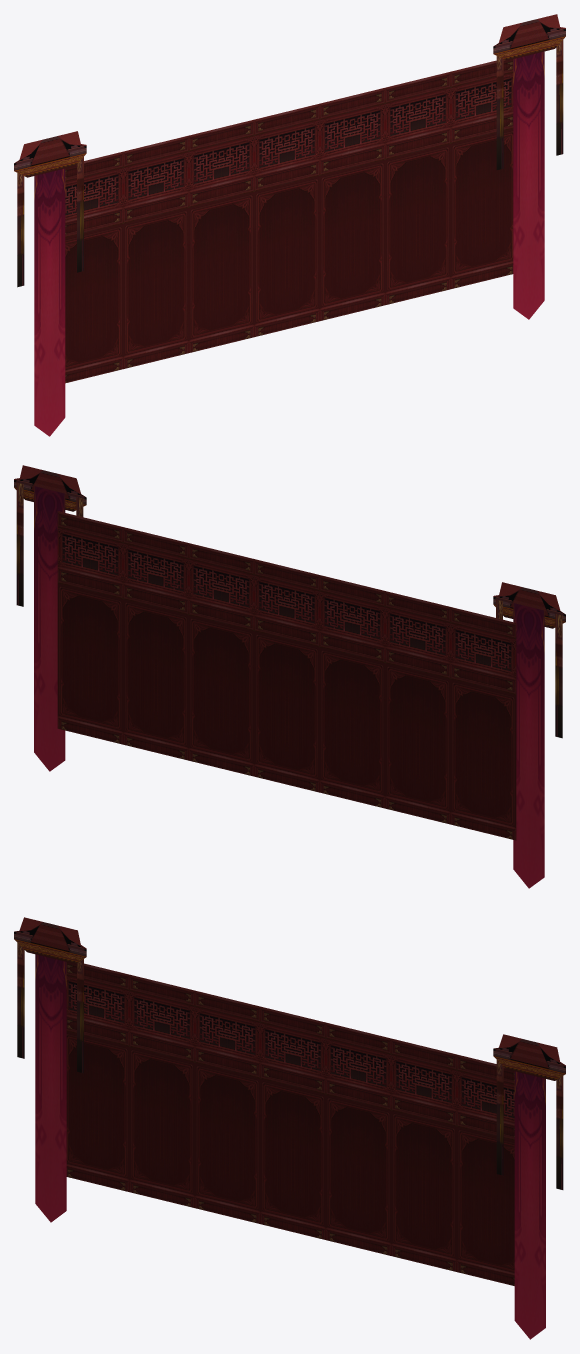
The model's file is fb_baitang_pingfeng.FBX.
The picture shows the model from 3 angles, top to bottom: view 1: azimuth 30°, elevation 25°; view 2: azimuth 150°, elevation 25°; view 3: azimuth 330°, elevation 25°; orthographic projection.
Parts seen in each view (by area): view 1: fb_baitang_pingfeng; view 2: fb_baitang_pingfeng; view 3: fb_baitang_pingfeng.
Part boxes in pixels (left/top/right/bottom): fb_baitang_pingfeng: left=14, top=14, right=565, bottom=436; fb_baitang_pingfeng: left=14, top=465, right=565, bottom=888; fb_baitang_pingfeng: left=14, top=917, right=565, bottom=1339.
Size of the model in its own units: 1942 by 1007 by 18.05.
